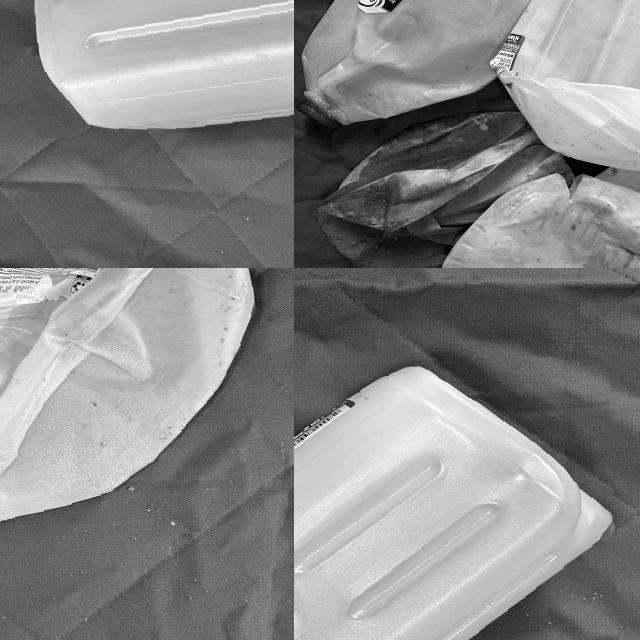milk-jug: (294, 359, 619, 640), (0, 268, 260, 541), (27, 0, 294, 133), (498, 0, 640, 172), (431, 180, 640, 268)
